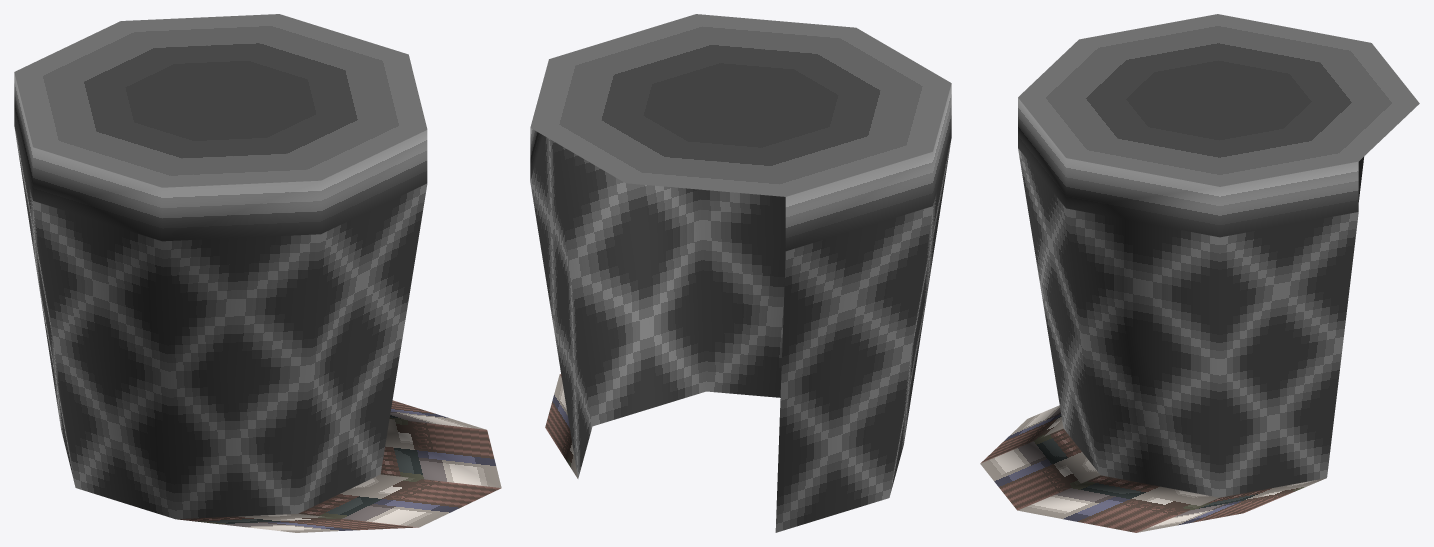
The picture shows the model from 3 angles, left to right: view 1: azimuth 30°, elevation 25°; view 2: azimuth 150°, elevation 25°; view 3: azimuth 270°, elevation 25°; orthographic projection. The views are drawn at different scales.
Visible parts, largest first — view 1: polygon0, polygon1, polygon2; view 2: polygon0, polygon2, polygon1; view 3: polygon0, polygon1, polygon2.
Boxes of the visible parts, left/top/right/bottom form: polygon0: left=14, top=14, right=427, bottom=519; polygon1: left=177, top=400, right=501, bottom=532; polygon2: left=117, top=57, right=323, bottom=144; polygon0: left=530, top=14, right=951, bottom=532; polygon2: left=635, top=59, right=846, bottom=151; polygon1: left=545, top=374, right=577, bottom=478; polygon0: left=1018, top=14, right=1419, bottom=497; polygon1: left=980, top=405, right=1325, bottom=532; polygon2: left=1119, top=57, right=1318, bottom=143.
Size of the model in its own units: 8.03 by 6.56 by 7.91.
